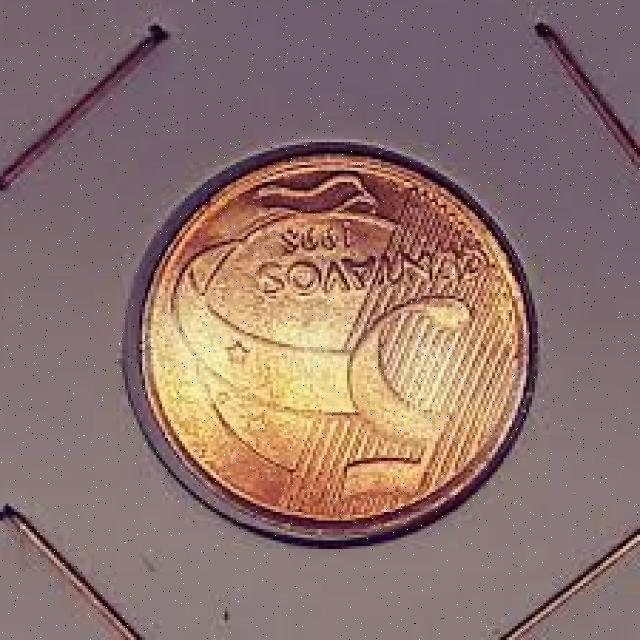5 cent: (134, 150, 534, 539)
